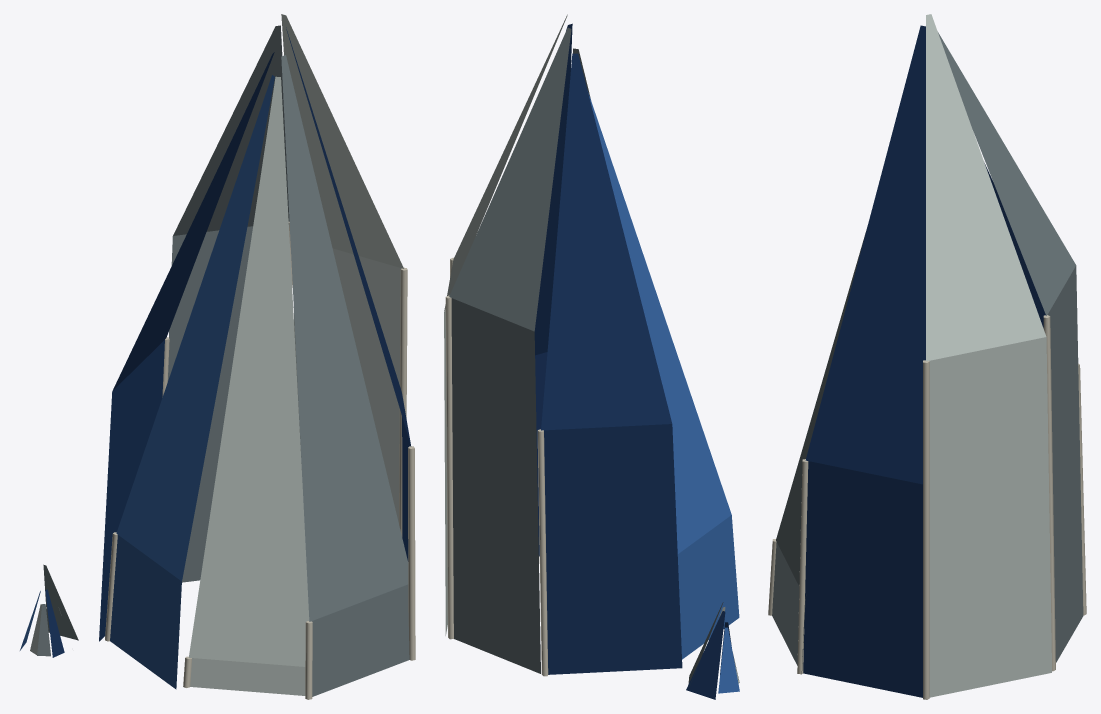
File: wreck_cryo_2.glb
The picture shows the model from 3 angles, left to right: view 1: azimuth 30°, elevation 25°; view 2: azimuth 150°, elevation 25°; view 3: azimuth 270°, elevation 25°; orthographic projection. The views are drawn at different scales.
Visible parts, largest first — view 1: wreck_cryo_2; view 2: wreck_cryo_2; view 3: wreck_cryo_2.
Part boxes in pixels (<box>): wreck_cryo_2: <box>20,14,415,699</box>; wreck_cryo_2: <box>444,14,739,699</box>; wreck_cryo_2: <box>768,14,1086,699</box>.
Bounding box in the file's own units: 2.17 × 3.71 × 1.71.
